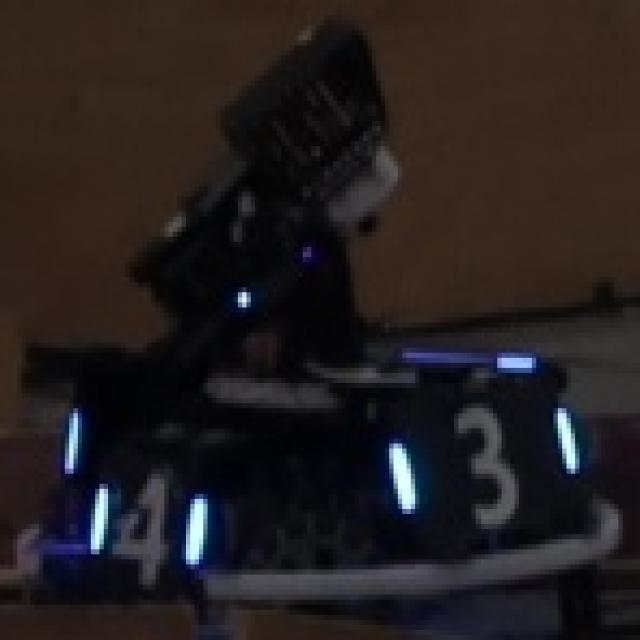B3: (385, 393, 579, 529)
B4: (82, 464, 208, 584)
